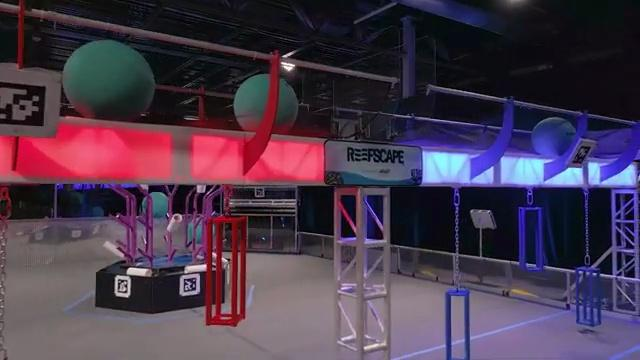ALGAE: (61, 38, 156, 121), (234, 72, 298, 135), (532, 117, 577, 157)
